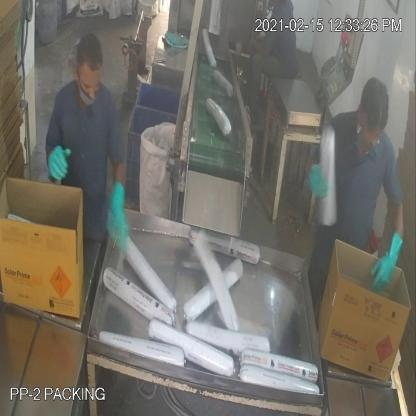glove: (97, 167, 132, 259), (370, 214, 406, 299), (40, 139, 78, 194)
no_glove: (246, 33, 275, 63)
